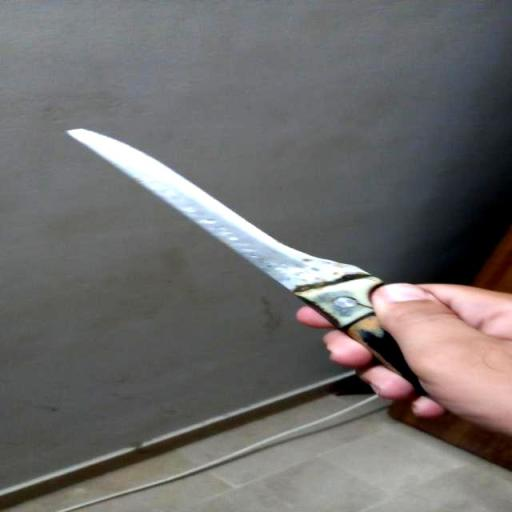knife: (67, 111, 445, 385)
